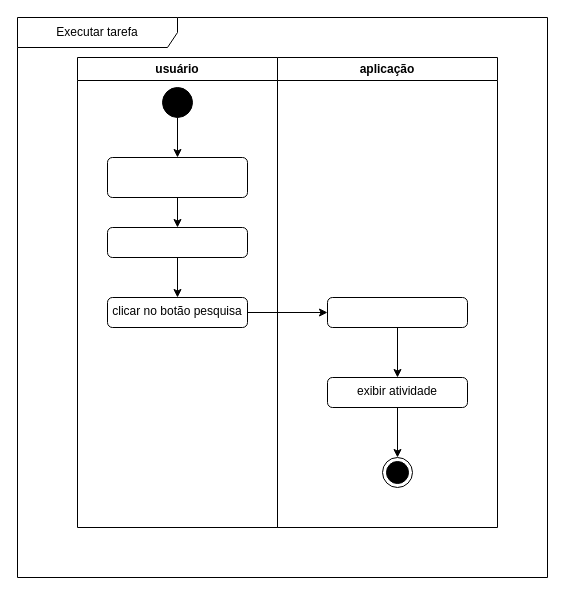
This 565x595 diagram has some shape labels left out. The shapes that lost their labels are listed below. From the top down, each one's centre as x and y in pixels, then its label:
At point (177, 177): "requisita página de estatística".
At point (177, 242): "digitar nome da tarefa".
At point (397, 312): "buscar atividade".
